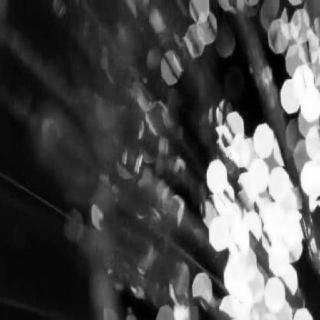other: (140, 28, 319, 320)
